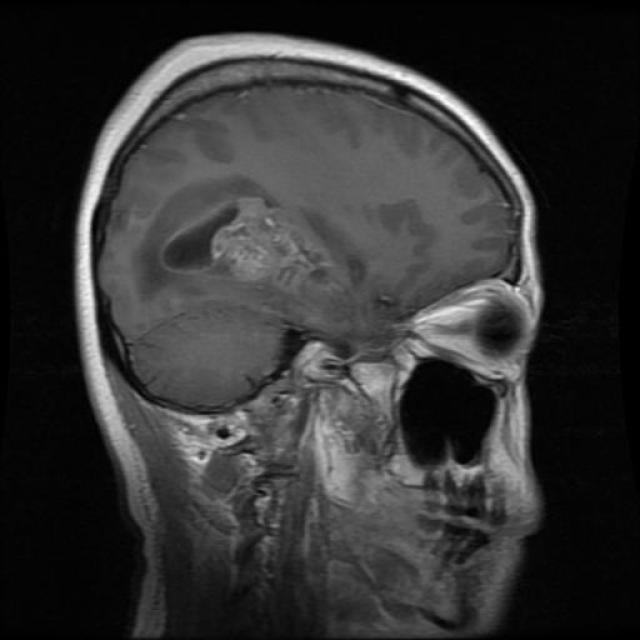glioma: (146, 174, 356, 308)
